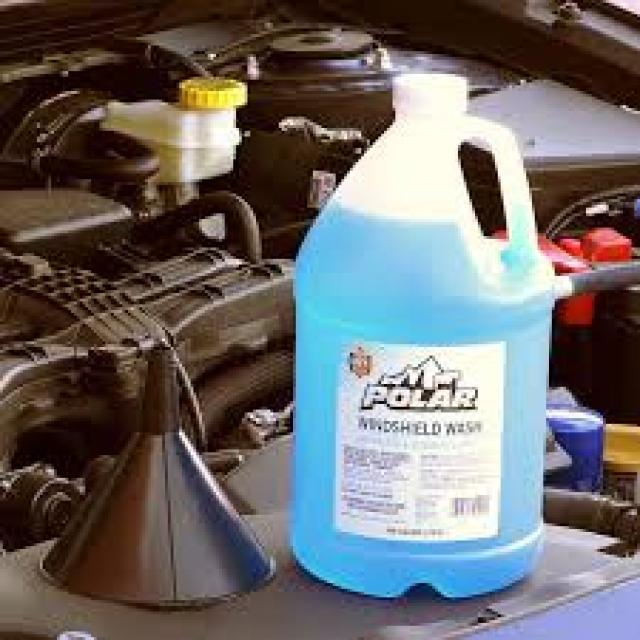winwinshield_washer: (285, 71, 555, 603)
